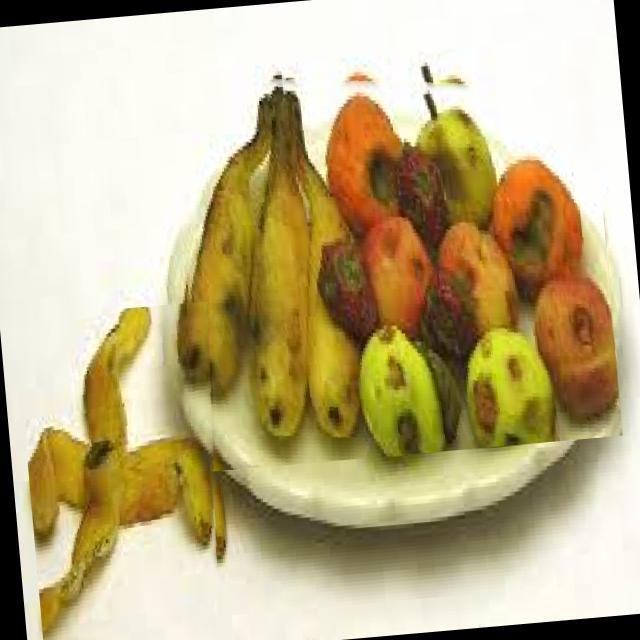Organic: (163, 39, 622, 473), (14, 300, 236, 640)
